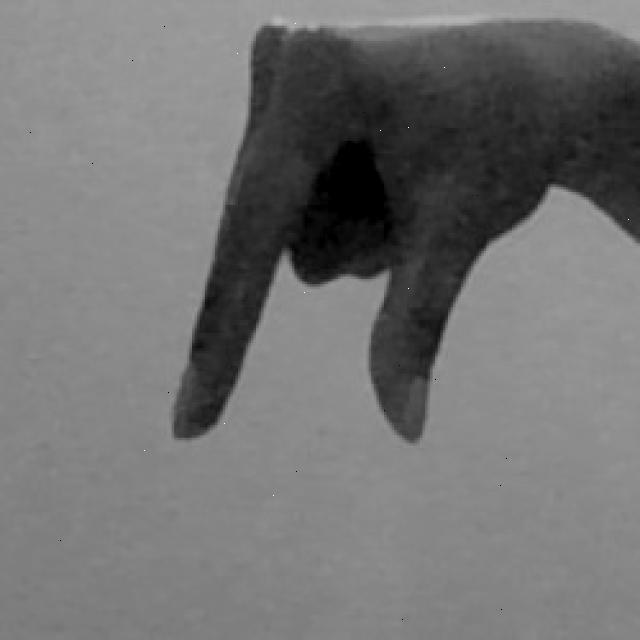Q: (163, 8, 640, 460)
